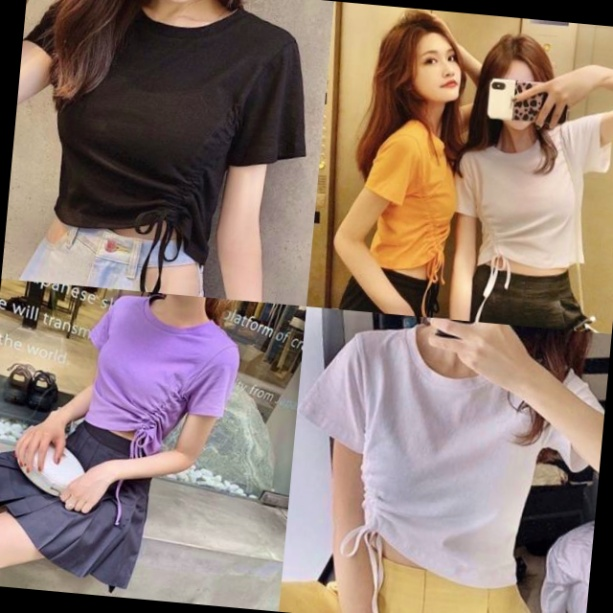Crop_Top: (357, 372, 550, 597), (49, 17, 234, 247), (470, 151, 593, 282), (368, 117, 465, 283), (85, 323, 206, 448)
Miniskirt: (0, 412, 157, 595)
